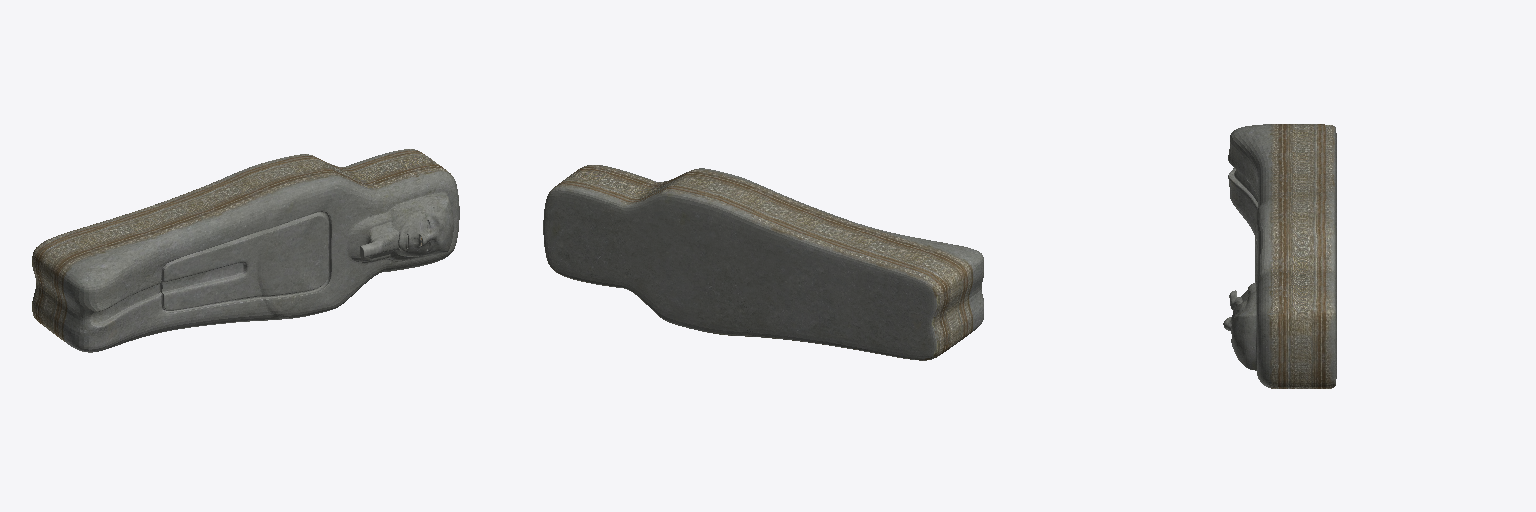
3 views of the same model, side by side, from view 1: azimuth 30°, elevation 25°; view 2: azimuth 150°, elevation 25°; view 3: azimuth 270°, elevation 25° (orthographic).
Parts seen in each view (by area): view 1: default; view 2: default; view 3: default.
Boxes of the visible parts, x1=… form: default: x1=32, y1=149, x2=459, y2=352; default: x1=543, y1=165, x2=983, y2=360; default: x1=1223, y1=124, x2=1336, y2=388.
Bounding box in the file's own units: 2.9 × 0.9347 × 0.7148.
Materials: 1 (1 with a texture image).